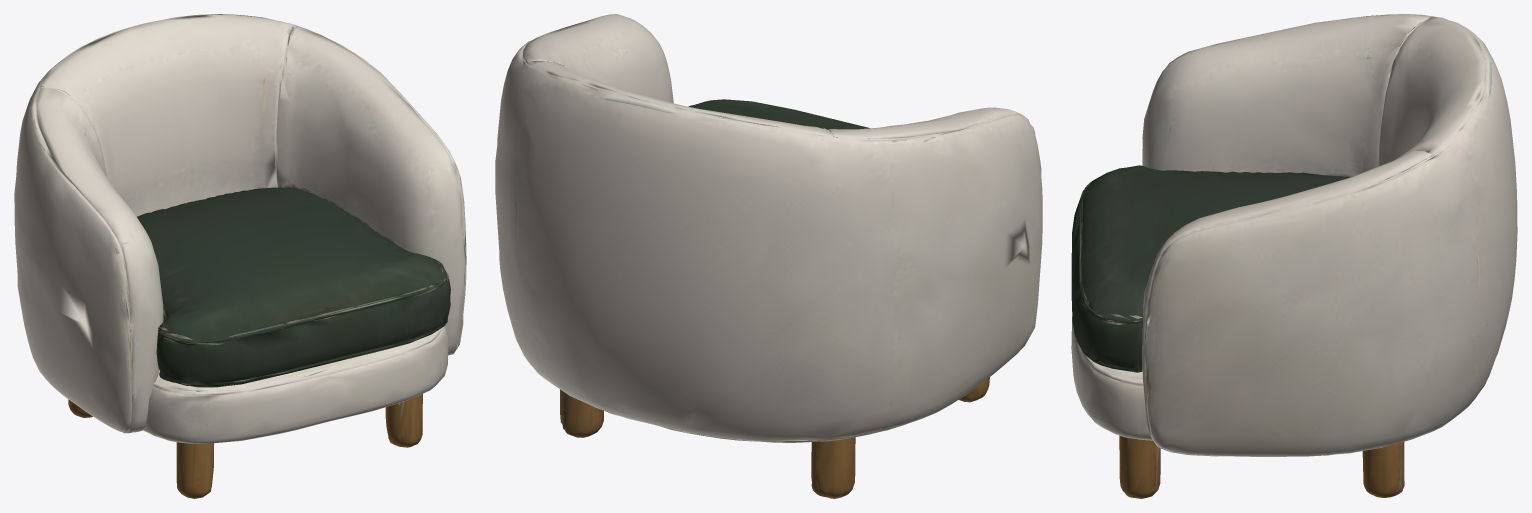
Rendered from armchair_boucle.glb.
3 renders of one model, left to right at view 1: azimuth 30°, elevation 25°; view 2: azimuth 150°, elevation 25°; view 3: azimuth 270°, elevation 25°, orthographic. The views are drawn at different scales.
Parts seen in each view (by area): view 1: prop; view 2: prop; view 3: prop.
Part boxes in pixels (box(x1,y1,x2,y2)): prop: box(14, 14, 466, 498); prop: box(495, 14, 1042, 498); prop: box(1071, 14, 1517, 498).
Bounding box in the file's own units: 0.9653 × 0.82 × 0.8944.
Materials: 1 (1 with a texture image).
